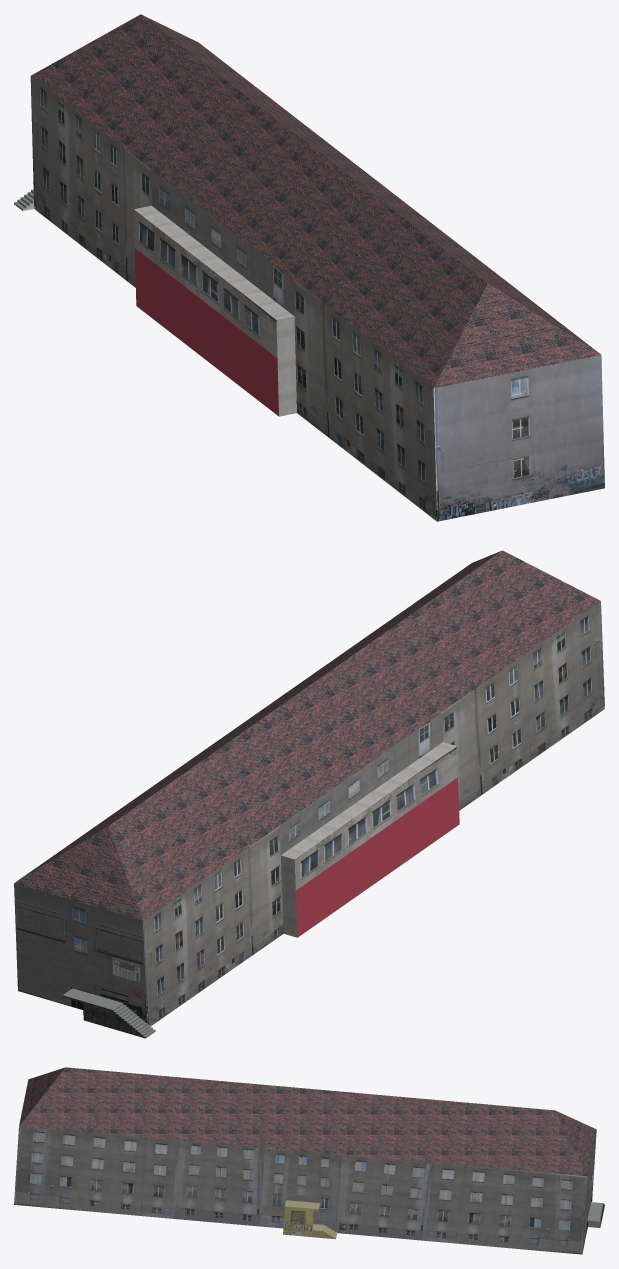
3 views of the same model, one above another, from view 1: azimuth 30°, elevation 25°; view 2: azimuth 150°, elevation 25°; view 3: azimuth 270°, elevation 25° (orthographic). The views are drawn at different scales.
Visible parts, largest first — view 1: skpC3E1; view 2: skpC3E1; view 3: skpC3E1.
Boxes of the visible parts, x1,y1,x2,y2 form: skpC3E1: (14,14,604,521); skpC3E1: (14,550,604,1038); skpC3E1: (14,1067,604,1254).
Size of the model in its own units: 798 by 805 by 2956.
